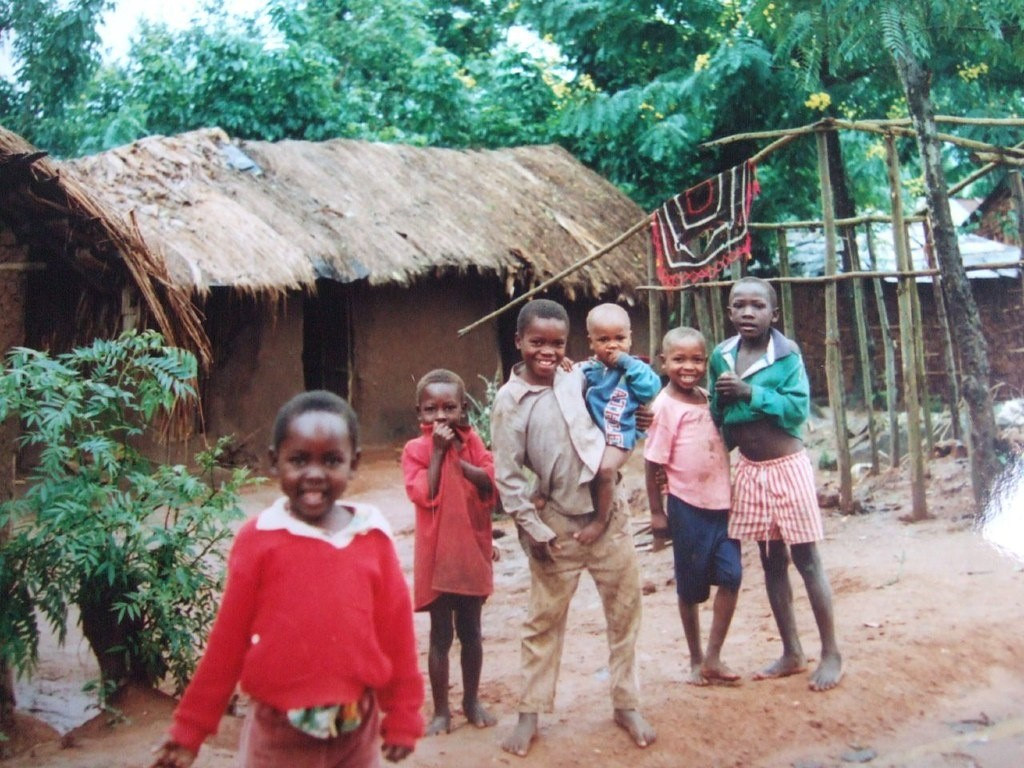face_no_mask: (266, 388, 361, 516), (510, 297, 567, 382), (727, 274, 779, 341), (658, 326, 709, 389), (416, 368, 469, 428), (588, 300, 633, 366)
